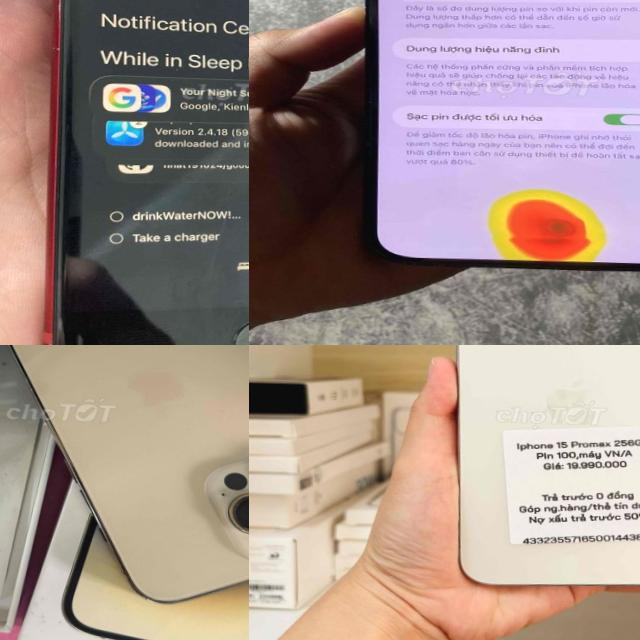scratch: (46, 39, 64, 56), (50, 0, 66, 13), (45, 339, 56, 345)
screen_defect: (470, 179, 627, 275)
